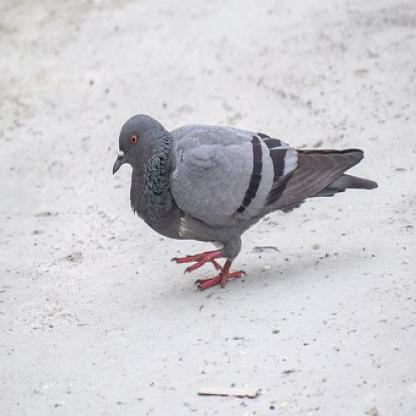Rock Pigeon: (114, 114, 377, 261)
